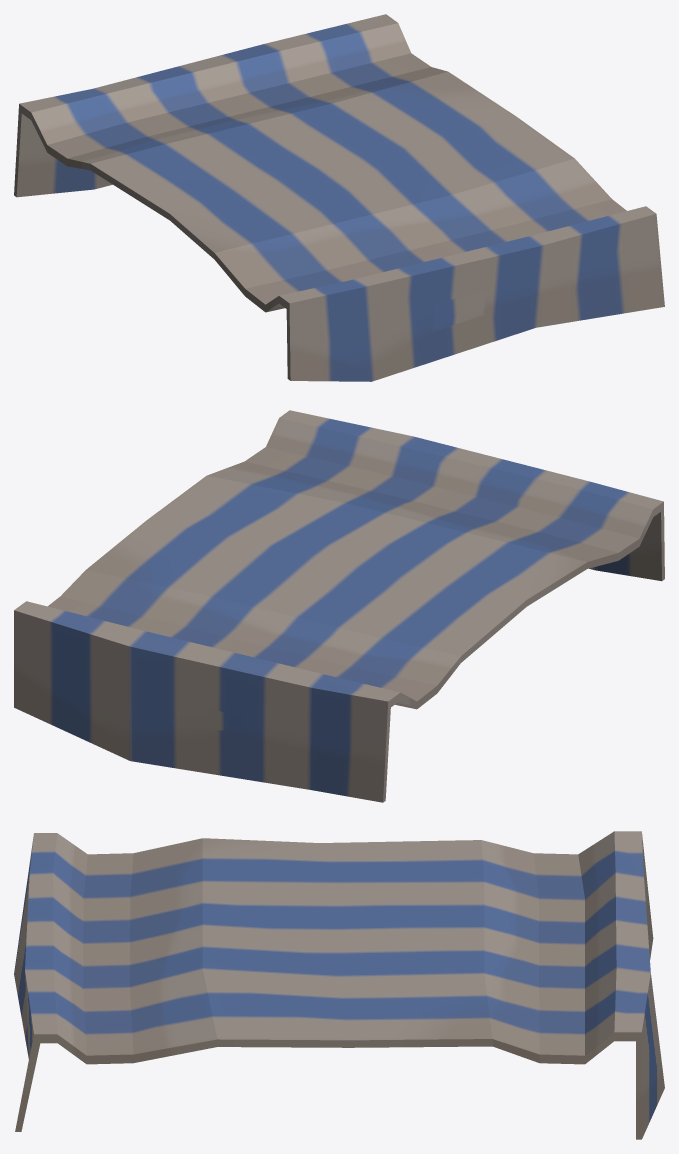
Rendered from SM_Bld_Village_ClothCover_Large_Cloth_01.fbx.
3 views of the same model, one above another, from view 1: azimuth 30°, elevation 25°; view 2: azimuth 150°, elevation 25°; view 3: azimuth 270°, elevation 25° (orthographic). The views are drawn at different scales.
Visible parts, largest first — view 1: SM_Bld_Village_ClothCover_Large_Cloth_01; view 2: SM_Bld_Village_ClothCover_Large_Cloth_01; view 3: SM_Bld_Village_ClothCover_Large_Cloth_01.
Part boxes in pixels (x1=…): SM_Bld_Village_ClothCover_Large_Cloth_01: x1=14, y1=14, x2=664, y2=381; SM_Bld_Village_ClothCover_Large_Cloth_01: x1=14, y1=410, x2=664, y2=802; SM_Bld_Village_ClothCover_Large_Cloth_01: x1=14, y1=831, x2=664, y2=1139.
Size of the model in its own units: 357 by 102 by 488.
